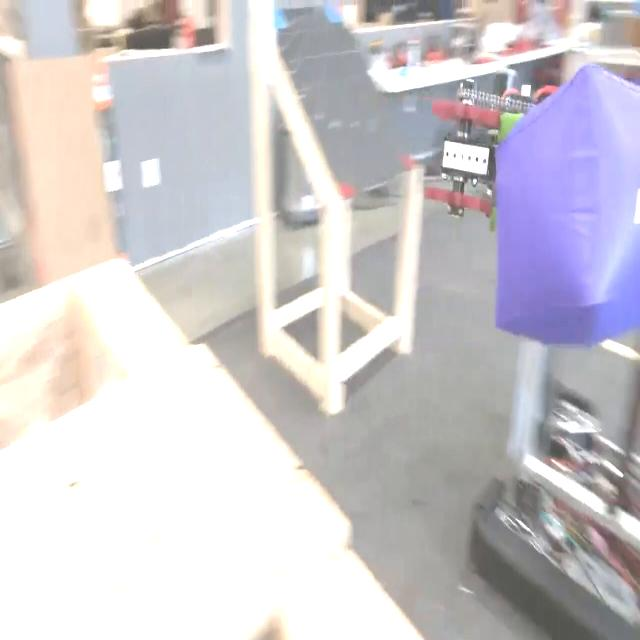frc_cube: (482, 70, 640, 351)
